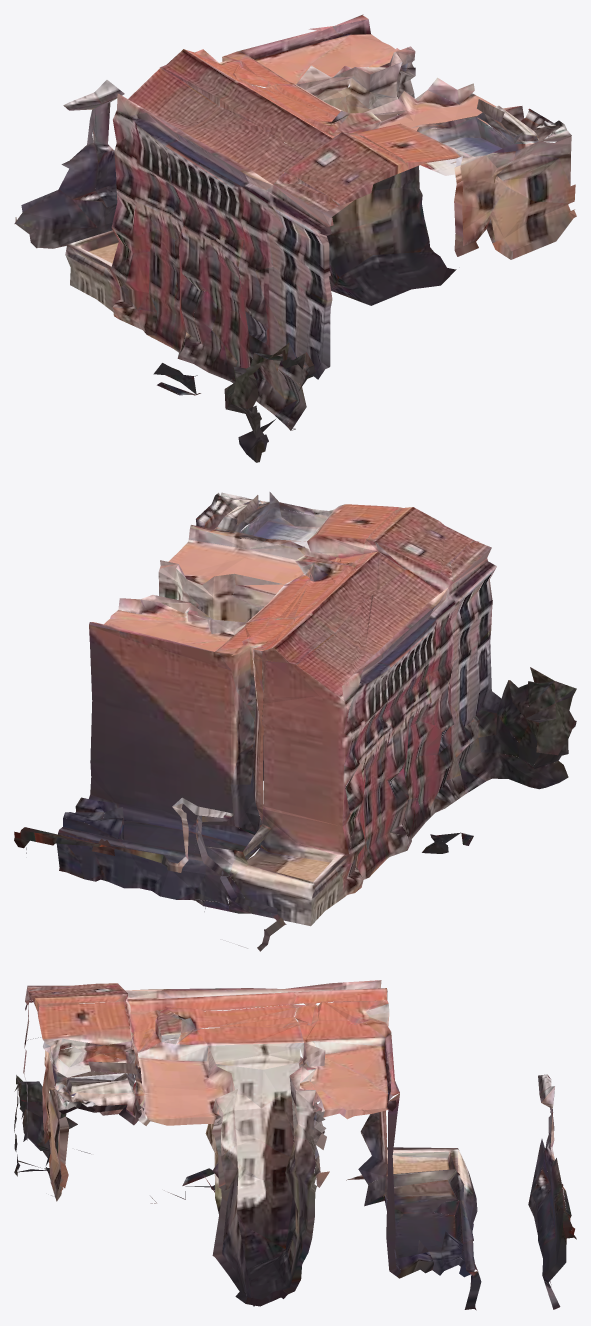
3 renders of one model, top to bottom at view 1: azimuth 30°, elevation 25°; view 2: azimuth 150°, elevation 25°; view 3: azimuth 270°, elevation 25°, orthographic. The views are drawn at different scales.
Parts seen in each view (by area): view 1: Mesh_0; view 2: Mesh_0; view 3: Mesh_0.
Part boxes in pixels (left/top/right/bottom): Mesh_0: left=14, top=14, right=576, bottom=462; Mesh_0: left=14, top=492, right=576, bottom=951; Mesh_0: left=14, top=980, right=576, bottom=1310.
Size of the model in its own units: 29.63 by 20.29 by 41.5.
2 materials, 2 textured.
